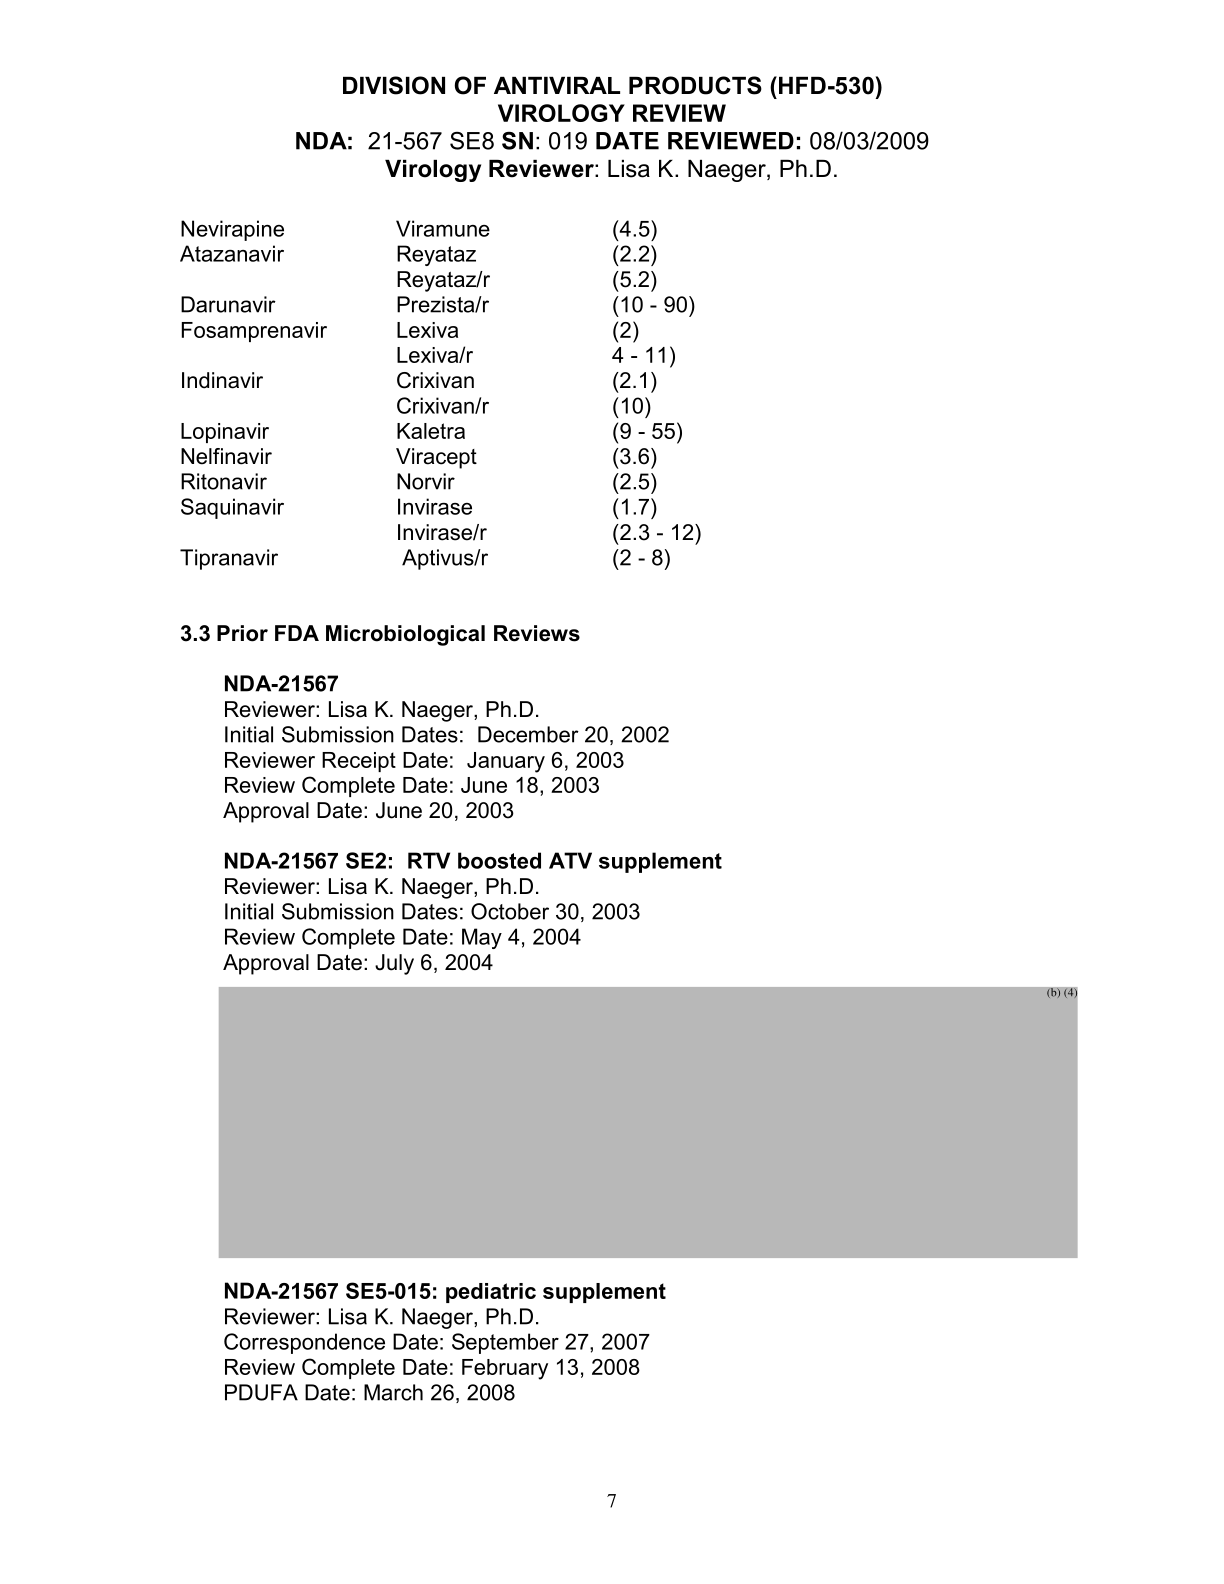nolines: (177, 216, 699, 570)
